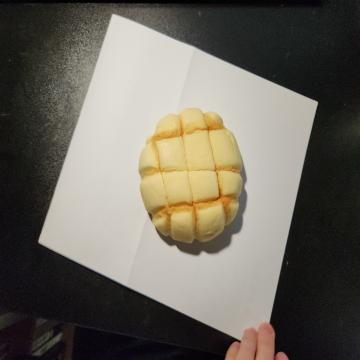melon_bread: (140, 108, 244, 245)
